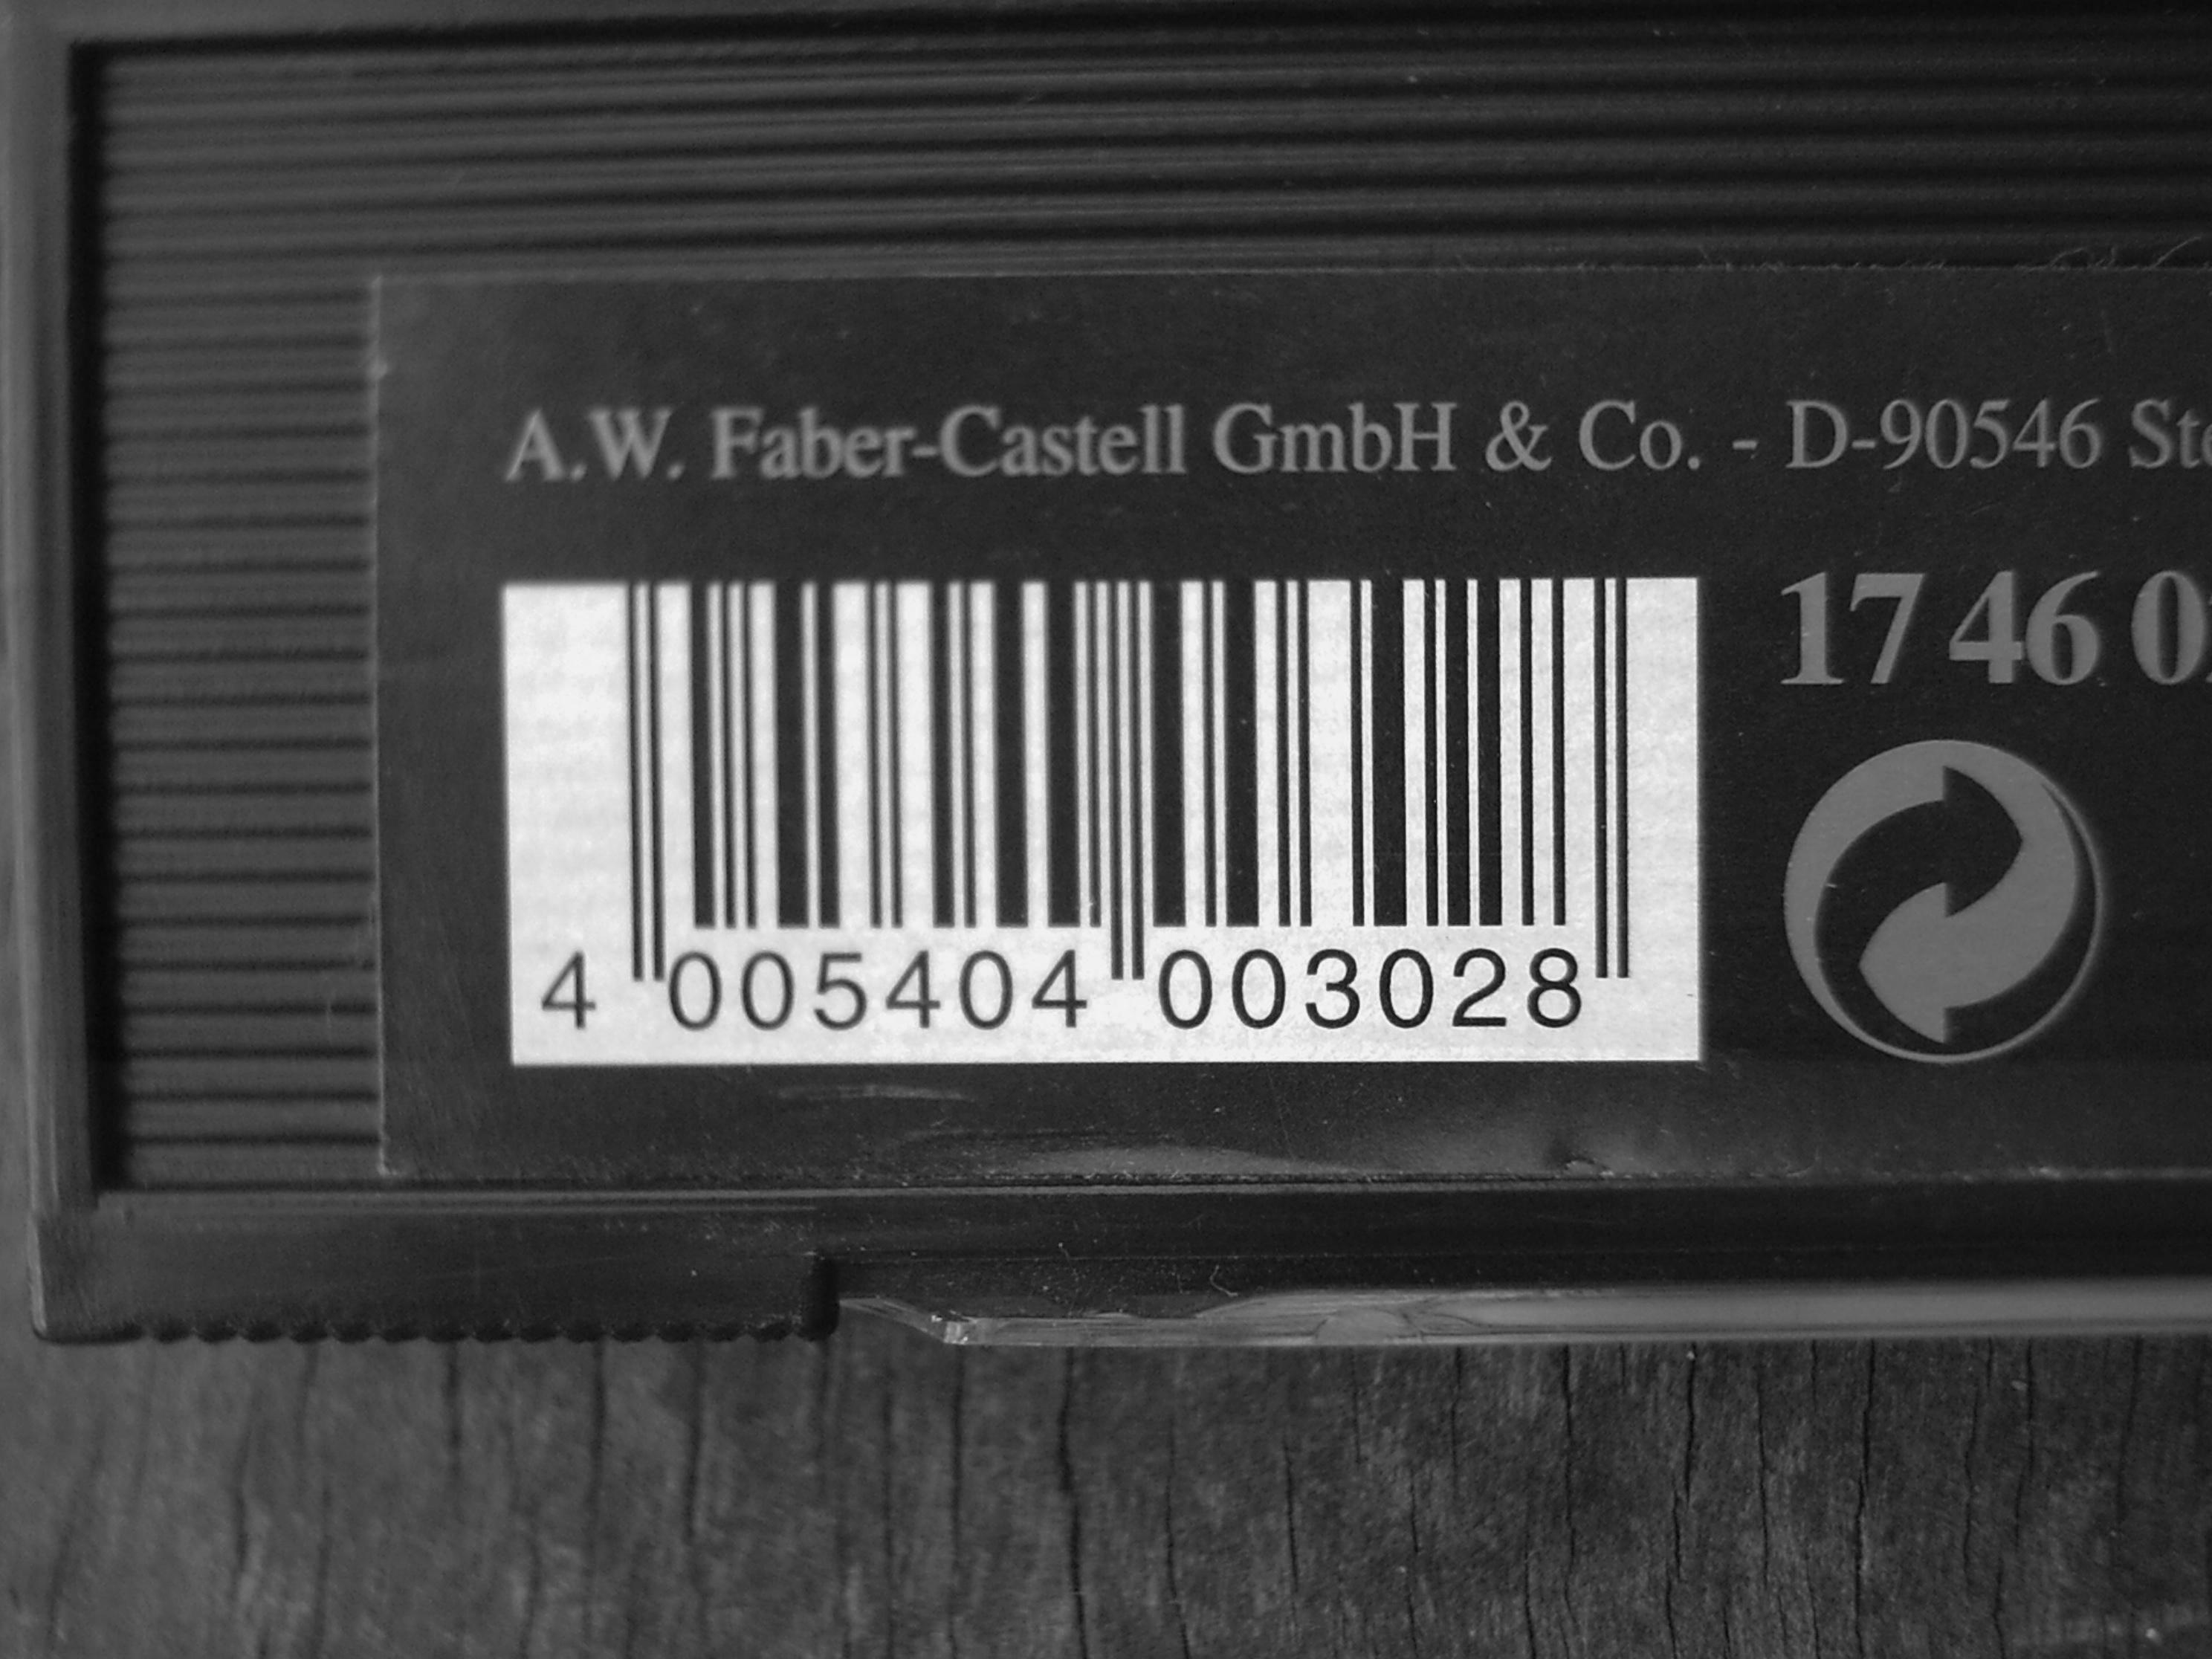Barcode: (584, 583, 1648, 1006)
